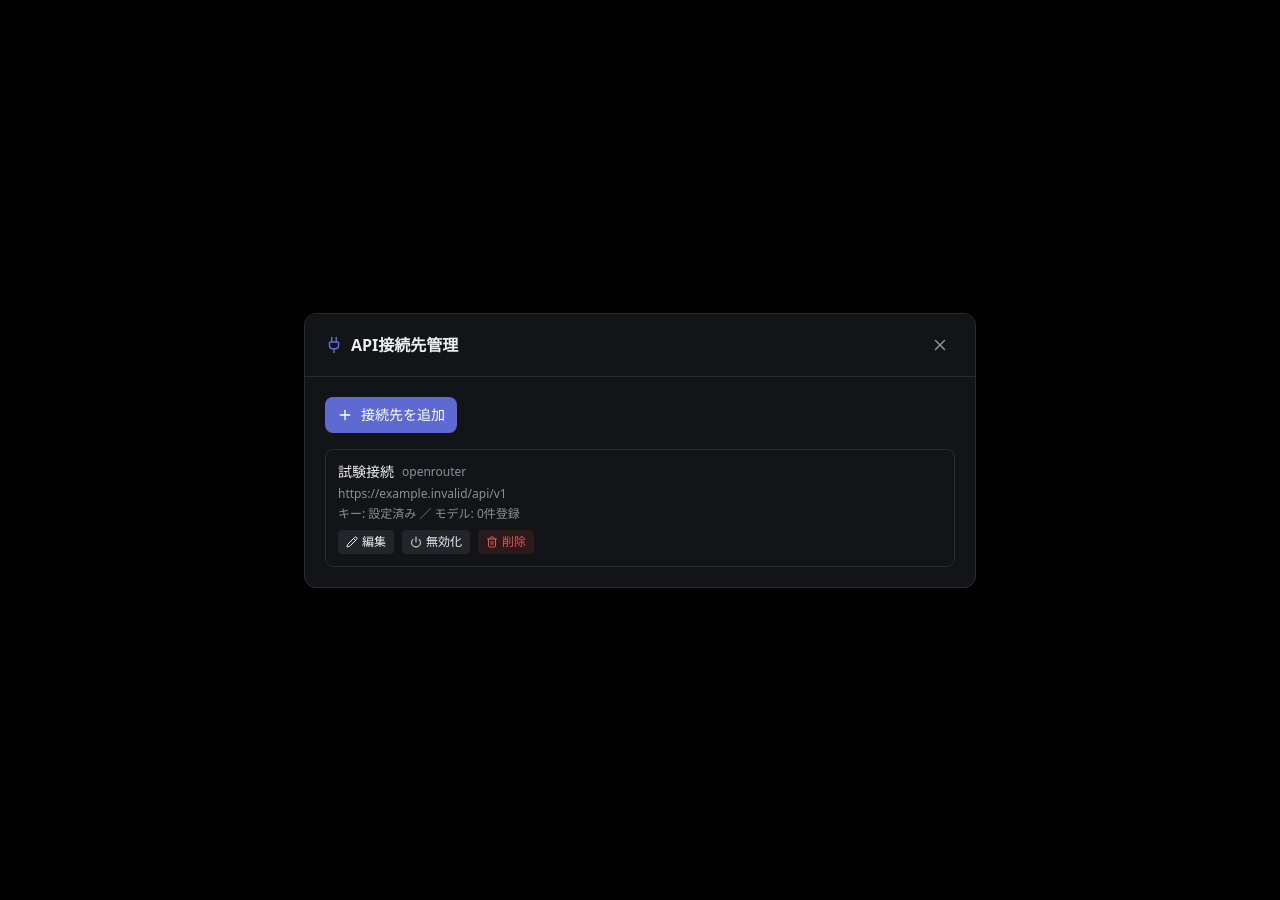
Test case: API接続先管理UI › 自動保存に失敗した場合は接続テストを実行せず、フォームを保持する
expect the text "試験接続" is shown: met, box x1=338 y1=462 x2=394 y2=482
Step 1. Click the button "接続先を追加" → click(391, 414), box x1=325 y1=396 x2=457 y2=432
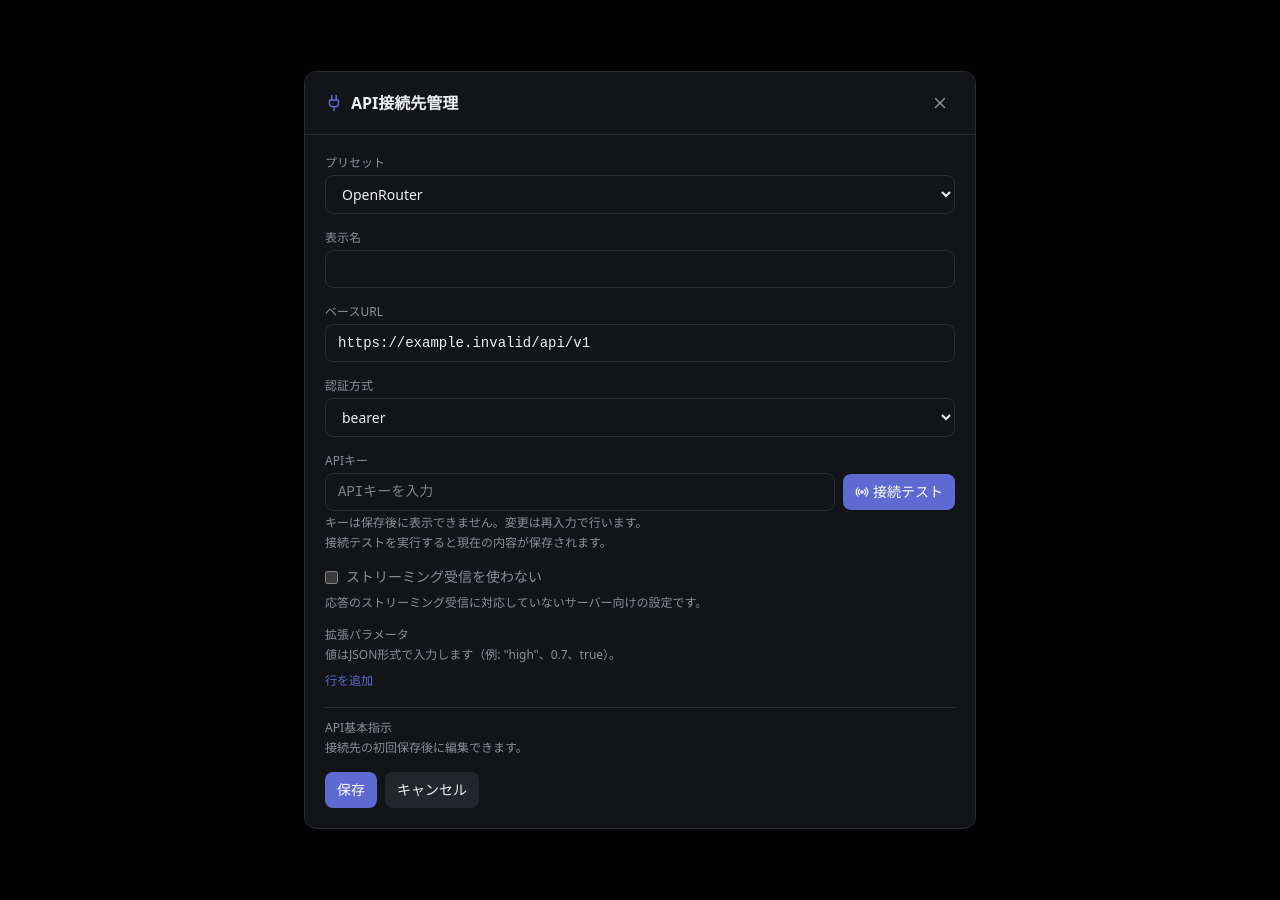
Step 2. Type "保存失敗後も残る表示名" into the field below "表示名" → (640, 269), box x1=325 y1=250 x2=955 y2=288
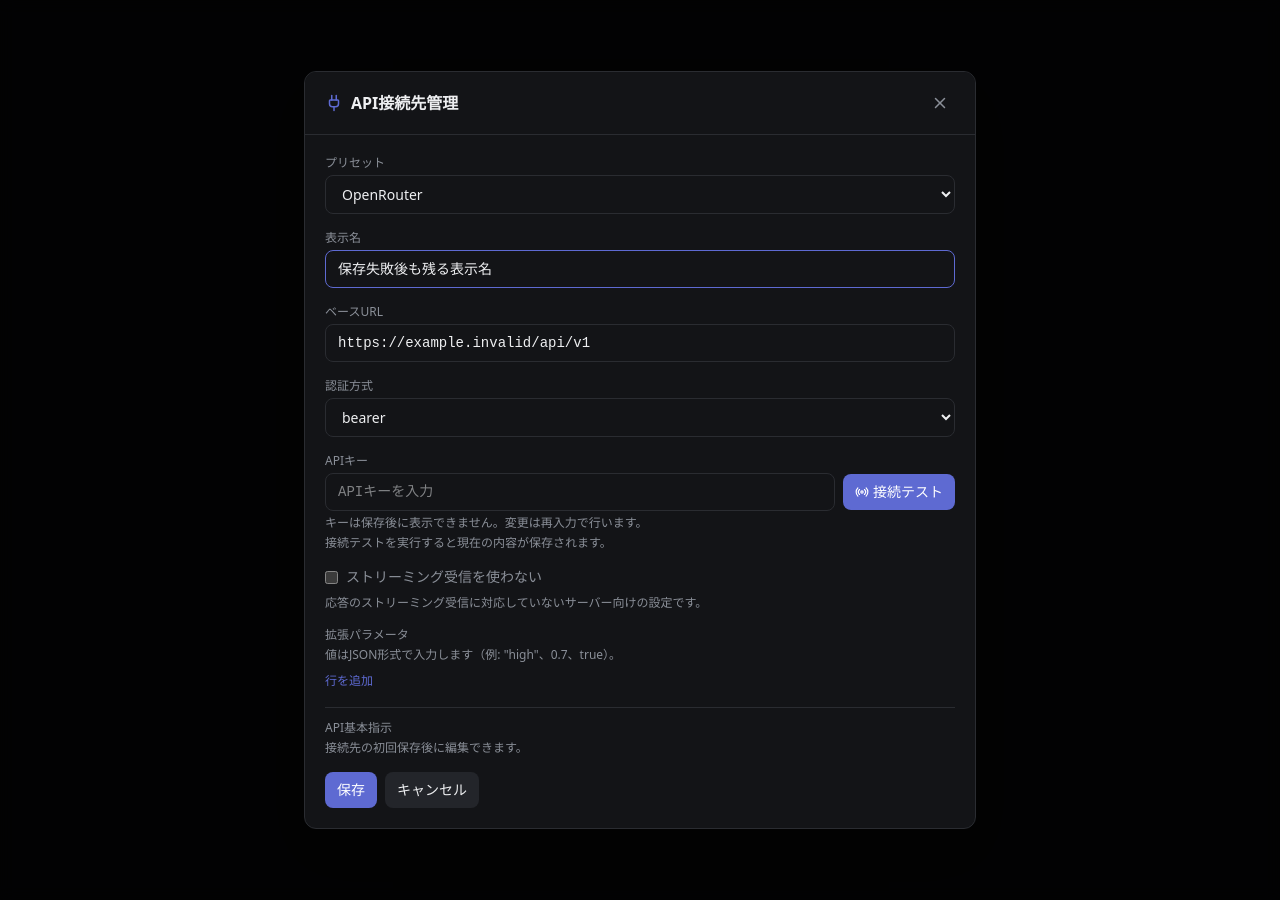
Step 3. Click the button "接続テスト" → click(899, 492), box x1=843 y1=474 x2=955 y2=510
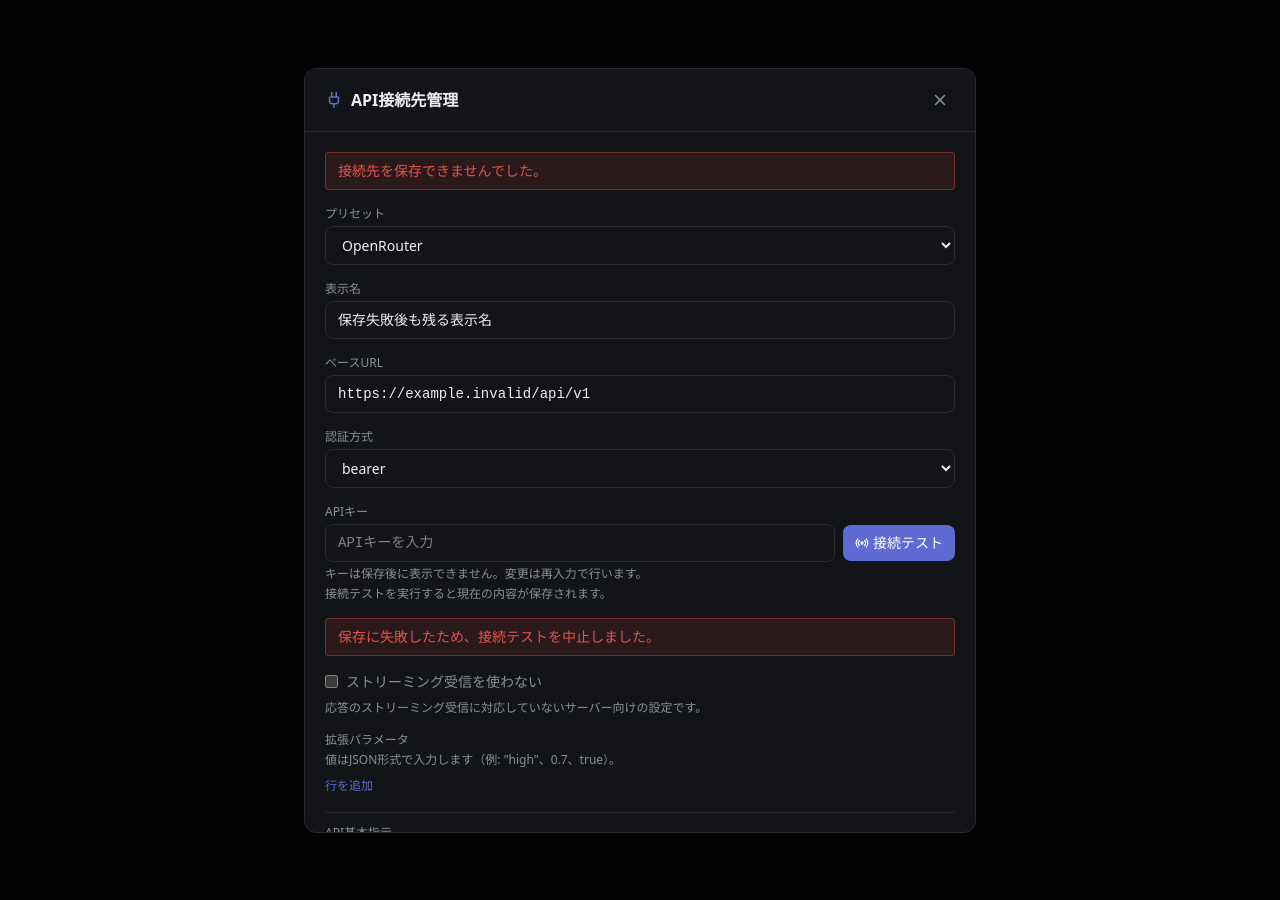
expect the text "保存に失敗したため、接続テストを中止しました。" is shown: met, box x1=338 y1=626 x2=660 y2=646
